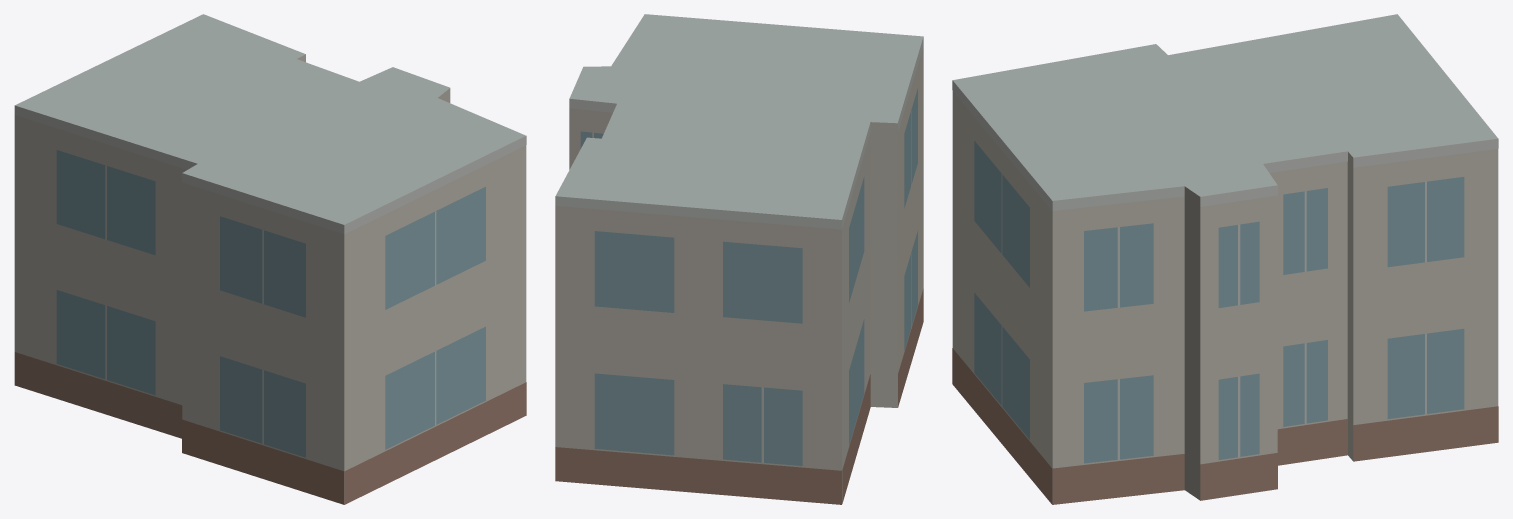
File: survey-upis-32475696.glb
The picture shows the model from 3 angles, left to right: view 1: azimuth 30°, elevation 25°; view 2: azimuth 150°, elevation 25°; view 3: azimuth 270°, elevation 25°; orthographic projection. The views are drawn at different scales.
Parts seen in each view (by area): view 1: survey-upis-32475696.tmp; view 2: survey-upis-32475696.tmp; view 3: survey-upis-32475696.tmp.
Part boxes in pixels (x1,y1,x2,y2): survey-upis-32475696.tmp: [14, 14, 526, 504]; survey-upis-32475696.tmp: [555, 14, 923, 504]; survey-upis-32475696.tmp: [952, 14, 1498, 504].
Bounding box in the file's own units: 9.64 × 7.3 × 11.9.
